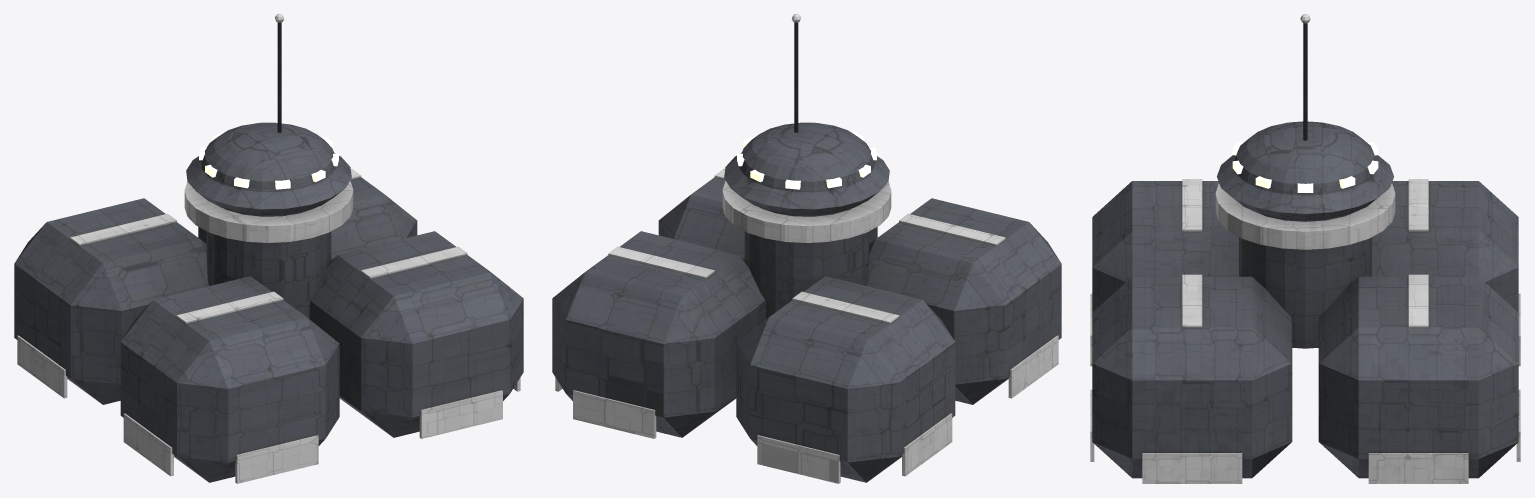
Rendered from rebel-dock-1.glb.
The picture shows the model from 3 angles, left to right: view 1: azimuth 30°, elevation 25°; view 2: azimuth 150°, elevation 25°; view 3: azimuth 270°, elevation 25°; orthographic projection. The views are drawn at different scales.
Visible parts, largest first — view 1: DockReb1; view 2: DockReb1; view 3: DockReb1.
Boxes of the visible parts, x1,y1,x2,y2 form: DockReb1: (14,14,523,483); DockReb1: (552,14,1061,483); DockReb1: (1090,14,1520,483).
Bounding box in the file's own units: 1.29 × 1.31 × 1.29.
Materials: 4 (4 with a texture image).
